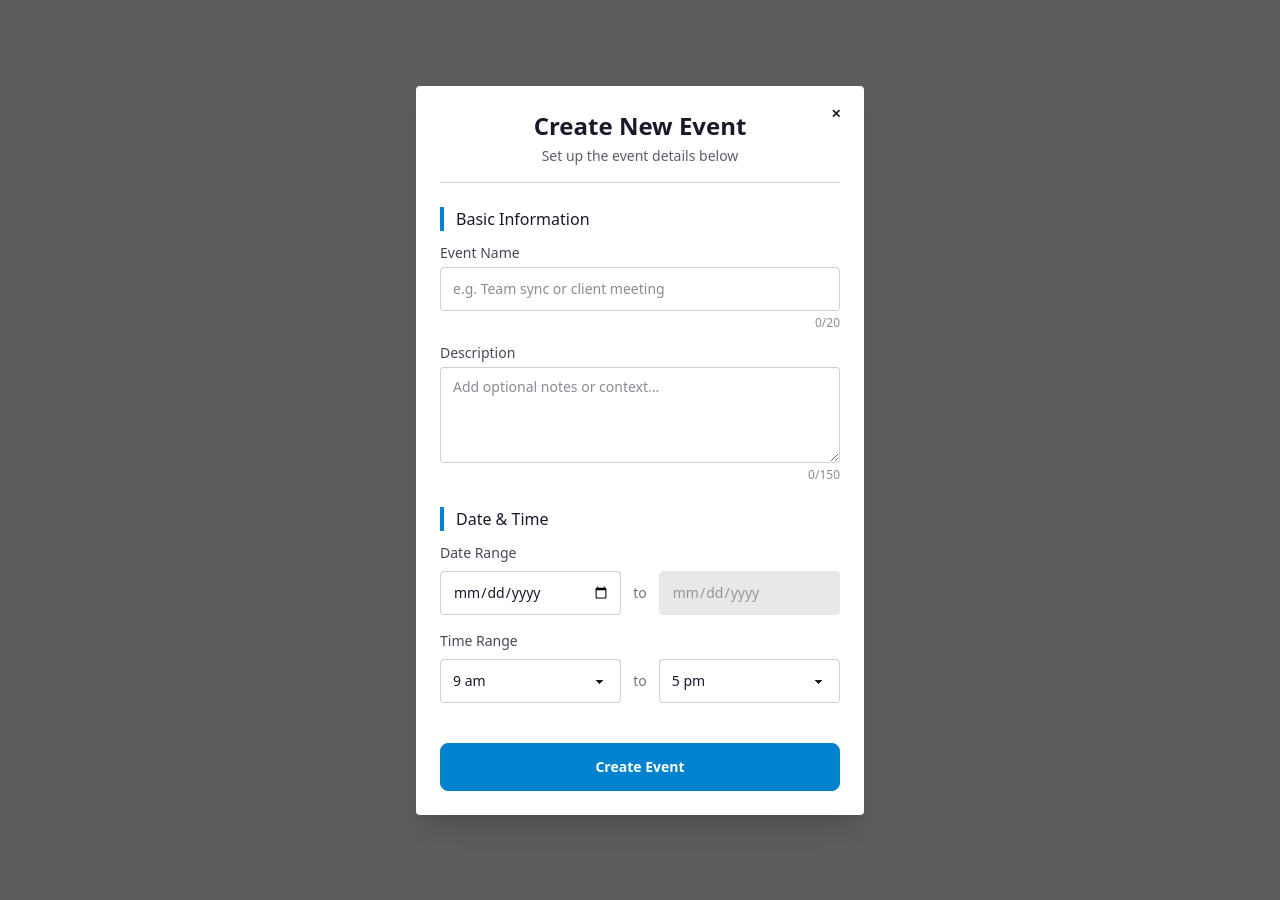
it: EventModal Component › shows validation error when required fields are missing
The image size is (1280, 900).
Click the button "Create Event": click(640, 766) x1=440 y1=742 x2=840 y2=790
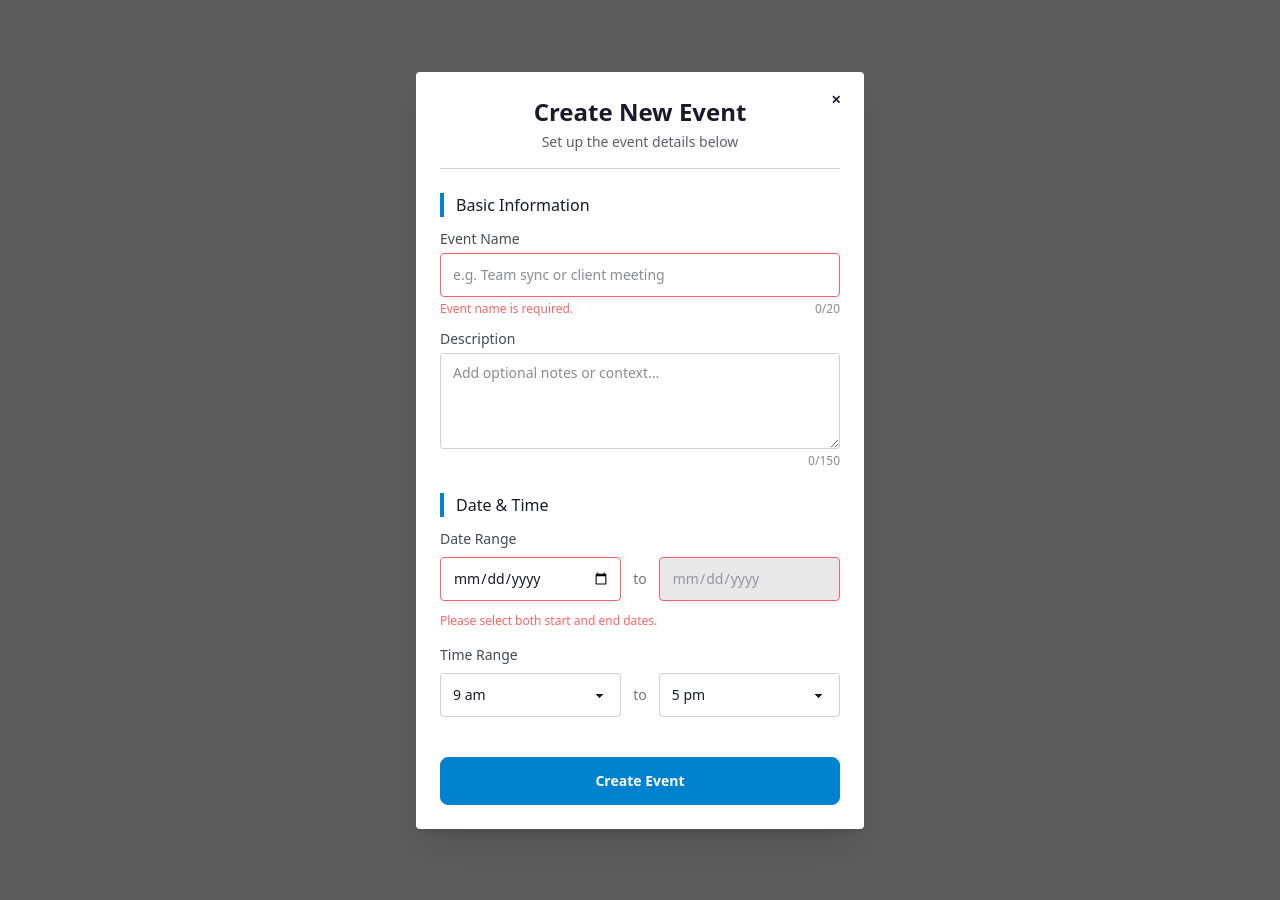
Check: the text "Event name is required." is shown, box x1=440 y1=300 x2=573 y2=316
Check: the text "Please select both start and end dates." is shown, box x1=440 y1=612 x2=657 y2=628
